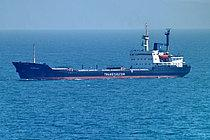Ship: (10, 22, 194, 85)
